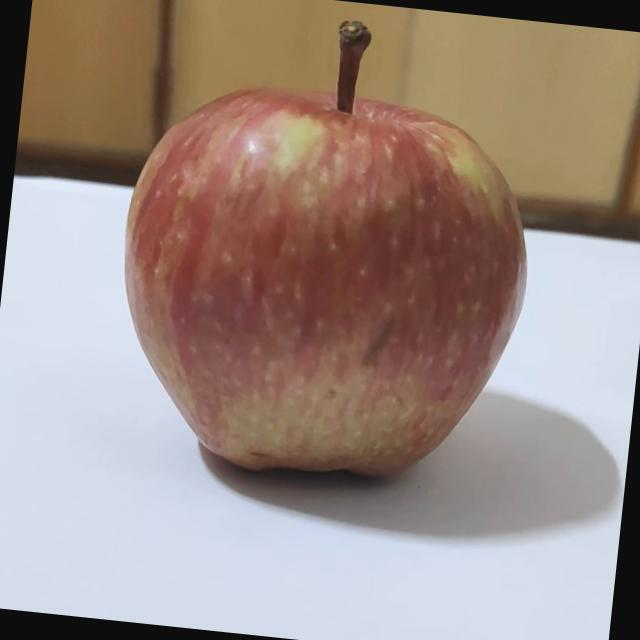apple: (98, 0, 554, 504)
